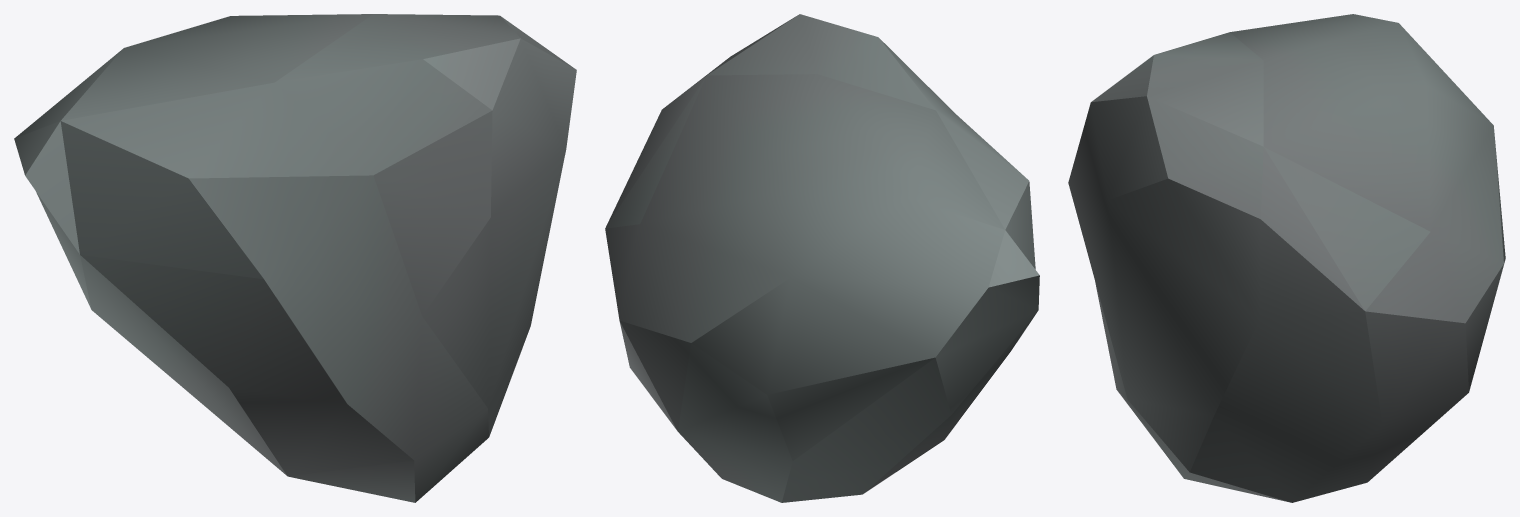
The model's file is rock_3_a-Dk2cH4O3.glb.
3 views of the same model, side by side, from view 1: azimuth 30°, elevation 25°; view 2: azimuth 150°, elevation 25°; view 3: azimuth 270°, elevation 25° (orthographic). The views are drawn at different scales.
Parts seen in each view (by area): view 1: Rock_3_A_Color1; view 2: Rock_3_A_Color1; view 3: Rock_3_A_Color1.
Part boxes in pixels (<box>): Rock_3_A_Color1: <box>14,14,576,502</box>; Rock_3_A_Color1: <box>605,14,1039,502</box>; Rock_3_A_Color1: <box>1068,14,1505,502</box>.
Bounding box in the file's own units: 2.3 × 2.06 × 1.94.
Materials: 1 (1 with a texture image).
